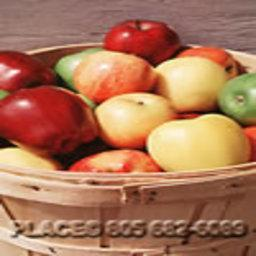apple: (1, 86, 98, 157), (147, 112, 251, 168), (71, 48, 157, 103), (94, 93, 175, 147), (155, 56, 228, 112), (104, 19, 182, 62), (1, 51, 57, 87), (216, 72, 256, 120)
